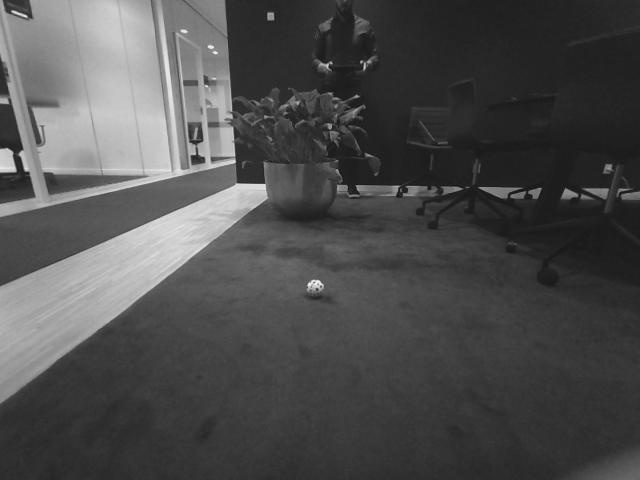dogtoy: (296, 272, 335, 306)
